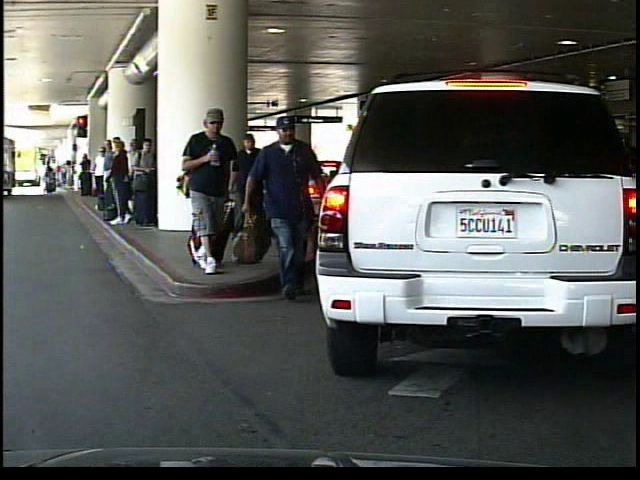person: (244, 102, 320, 297), (180, 105, 241, 275), (234, 135, 273, 243)
